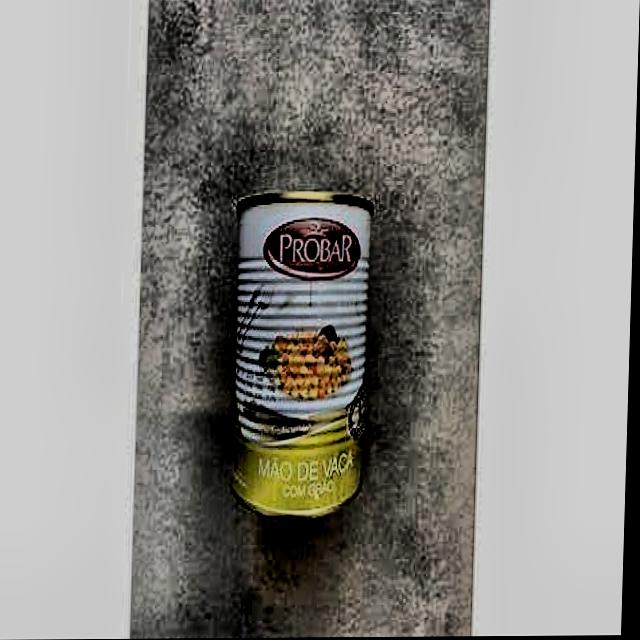Cans: (228, 186, 392, 530)
